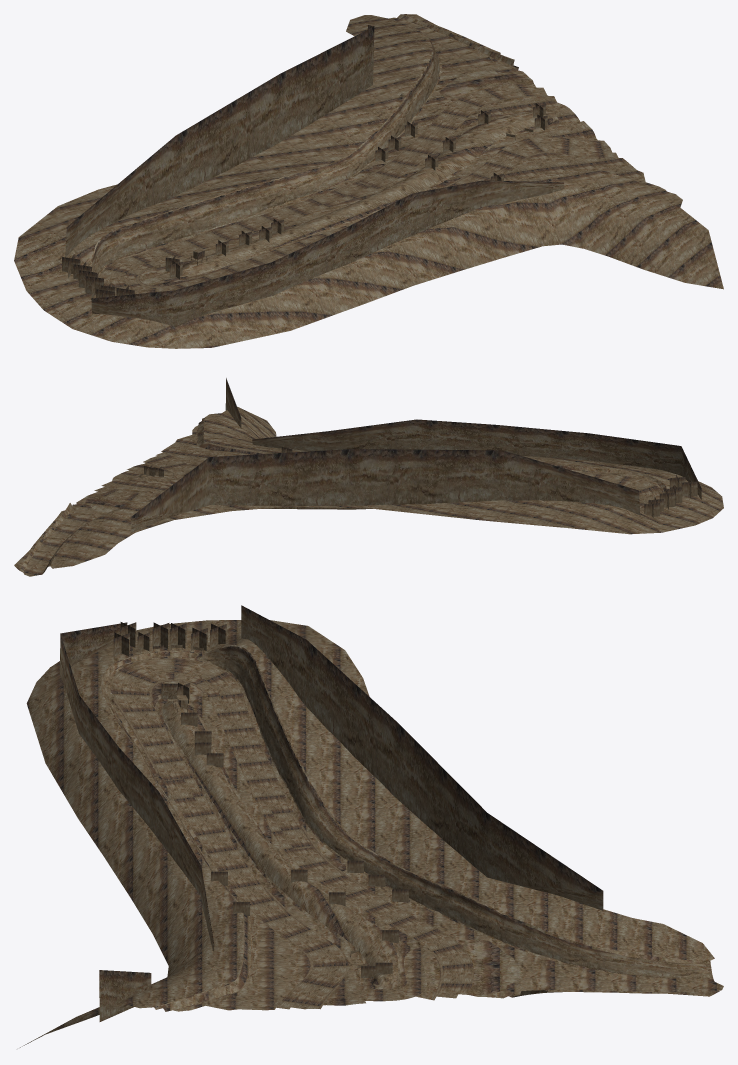
File: ebisuw1.glb
3 views of the same model, one above another, from view 1: azimuth 30°, elevation 25°; view 2: azimuth 150°, elevation 25°; view 3: azimuth 270°, elevation 25° (orthographic). The views are drawn at different scales.
Visible parts, largest first — view 1: ebisuw1; view 2: ebisuw1; view 3: ebisuw1.
Boxes of the visible parts, <box> form: ebisuw1: <box>14,14,723,348</box>; ebisuw1: <box>14,378,723,576</box>; ebisuw1: <box>20,605,723,1047</box>.
Bounding box in the file's own units: 322 × 78.63 × 279.
1 material, 1 textured.
